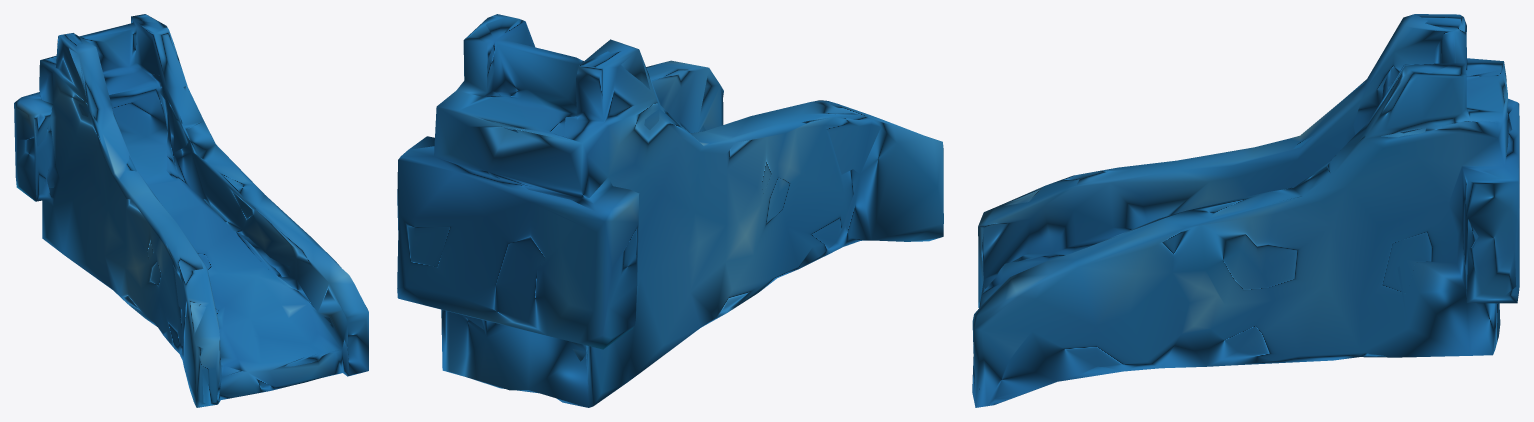
The model's file is gen3d-ice-slide-lod0.glb.
3 renders of one model, left to right at view 1: azimuth 30°, elevation 25°; view 2: azimuth 150°, elevation 25°; view 3: azimuth 270°, elevation 25°, orthographic. The views are drawn at different scales.
Parts seen in each view (by area): view 1: part_0; view 2: part_0; view 3: part_0.
Boxes of the visible parts, bbox=[...] form: part_0: bbox=[14, 14, 368, 407]; part_0: bbox=[397, 14, 943, 407]; part_0: bbox=[972, 14, 1519, 407].
Bounding box in the file's own units: 0.7663 × 0.999 × 1.59.
